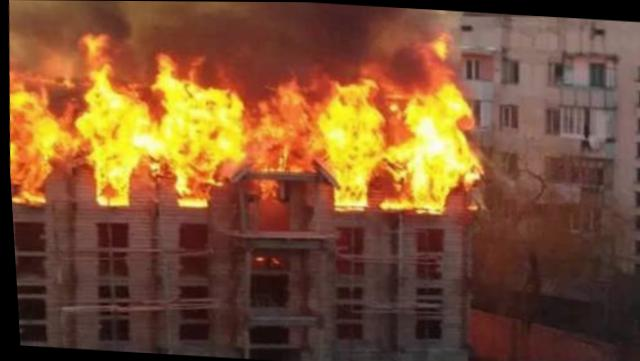fire: (1, 19, 488, 220)
